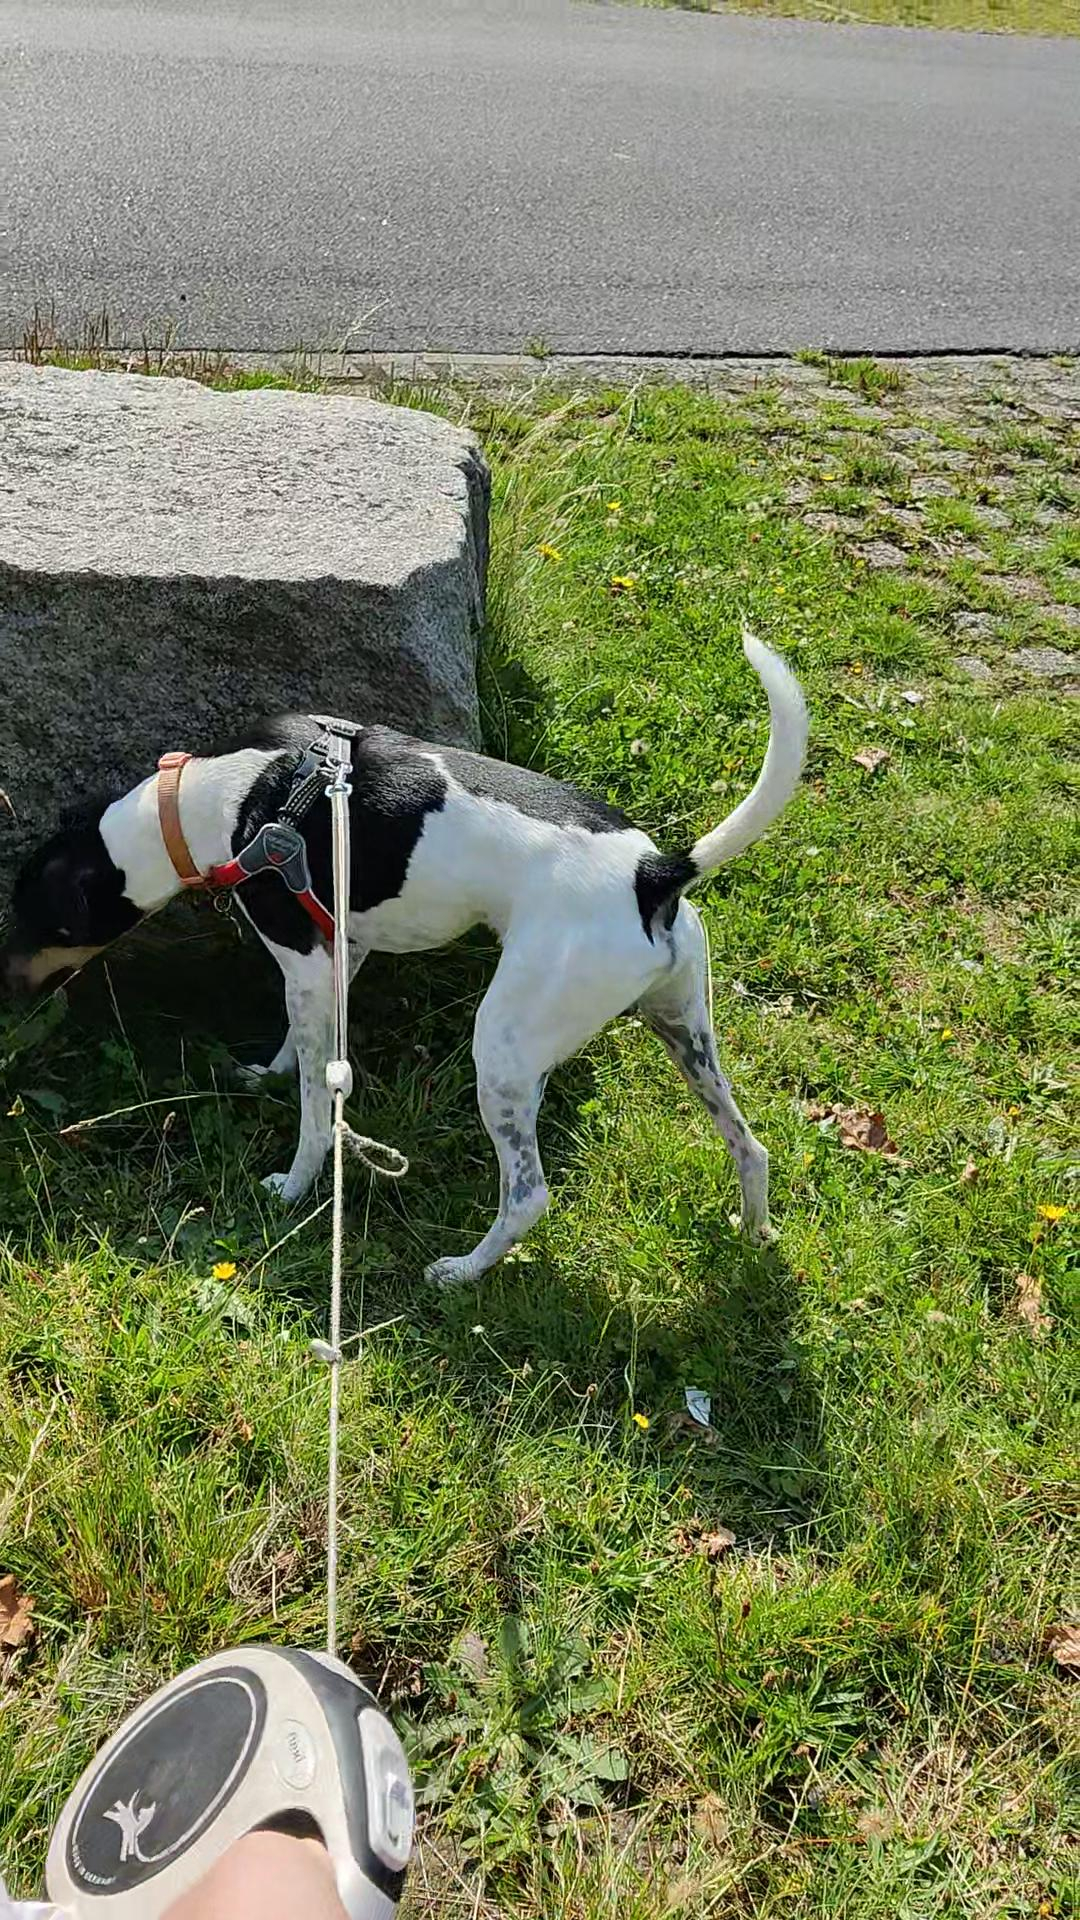Dog: (0, 609, 870, 1302), (100, 1785, 164, 1859)
